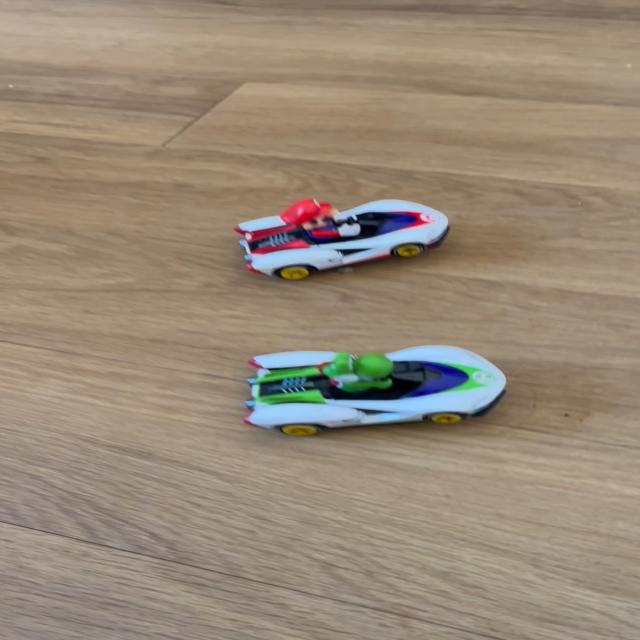mario: (220, 189, 466, 280)
yoshi: (218, 332, 526, 442)
